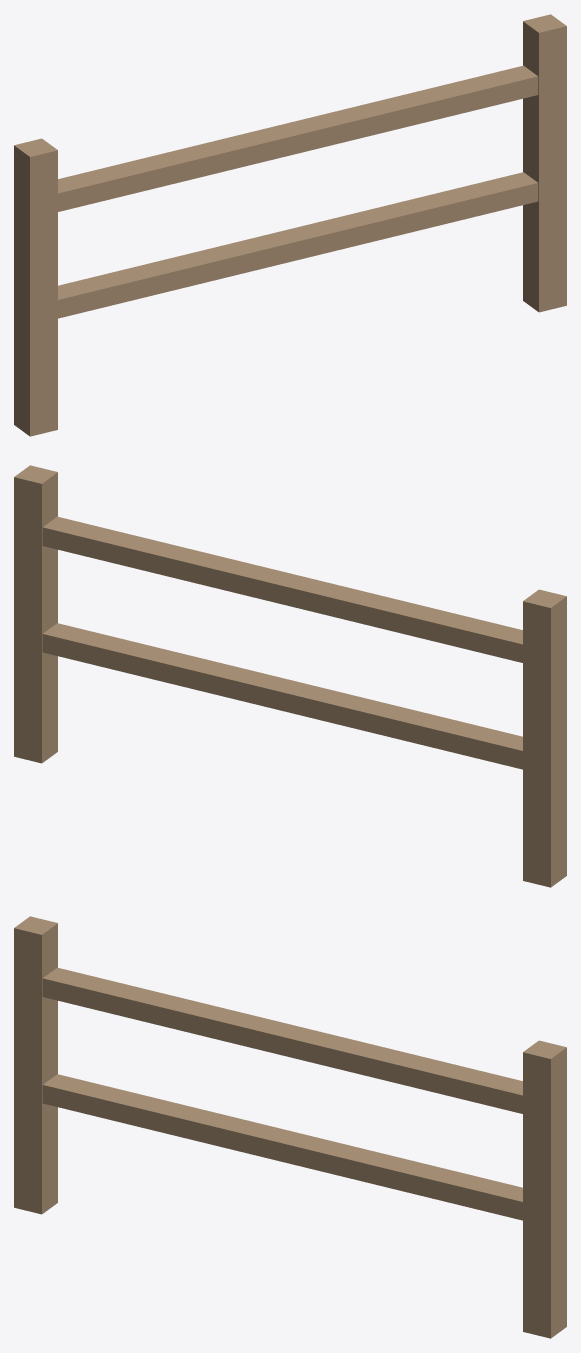
The model's file is fence_segment.glb.
3 renders of one model, top to bottom at view 1: azimuth 30°, elevation 25°; view 2: azimuth 150°, elevation 25°; view 3: azimuth 330°, elevation 25°, orthographic.
Parts seen in each view (by area): view 1: Fence; view 2: Fence; view 3: Fence.
Boxes of the visible parts, <box> form: Fence: <box>14,14,566,436</box>; Fence: <box>14,465,566,887</box>; Fence: <box>14,916,566,1338</box>.
Bounding box in the file's own units: 2.11 × 1.05 × 0.11.
